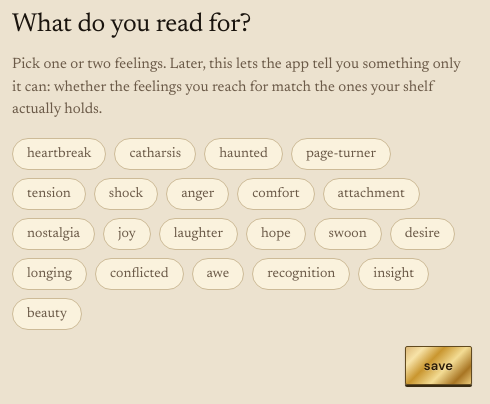
Test: ReadForQuestion [F7.7] › caps the selection at two feelings
Click the button "comfort": click(276, 194) left=237, top=178, right=315, bottom=210
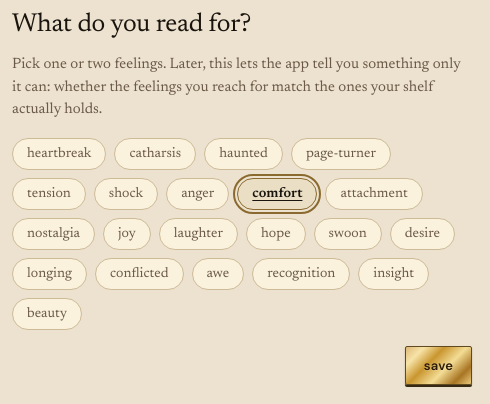
Click the button "heartbreak": click(59, 154) left=12, top=138, right=106, bottom=170
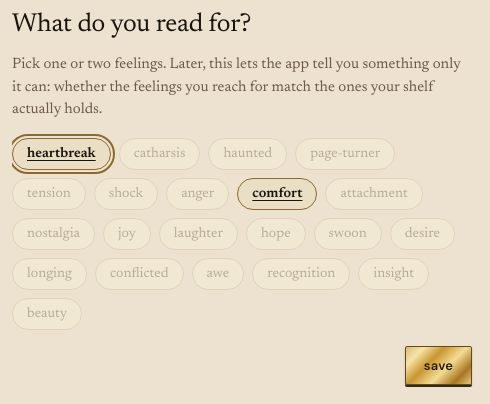
Now the button "awe" is disabled, box left=192, top=258, right=244, bottom=290
